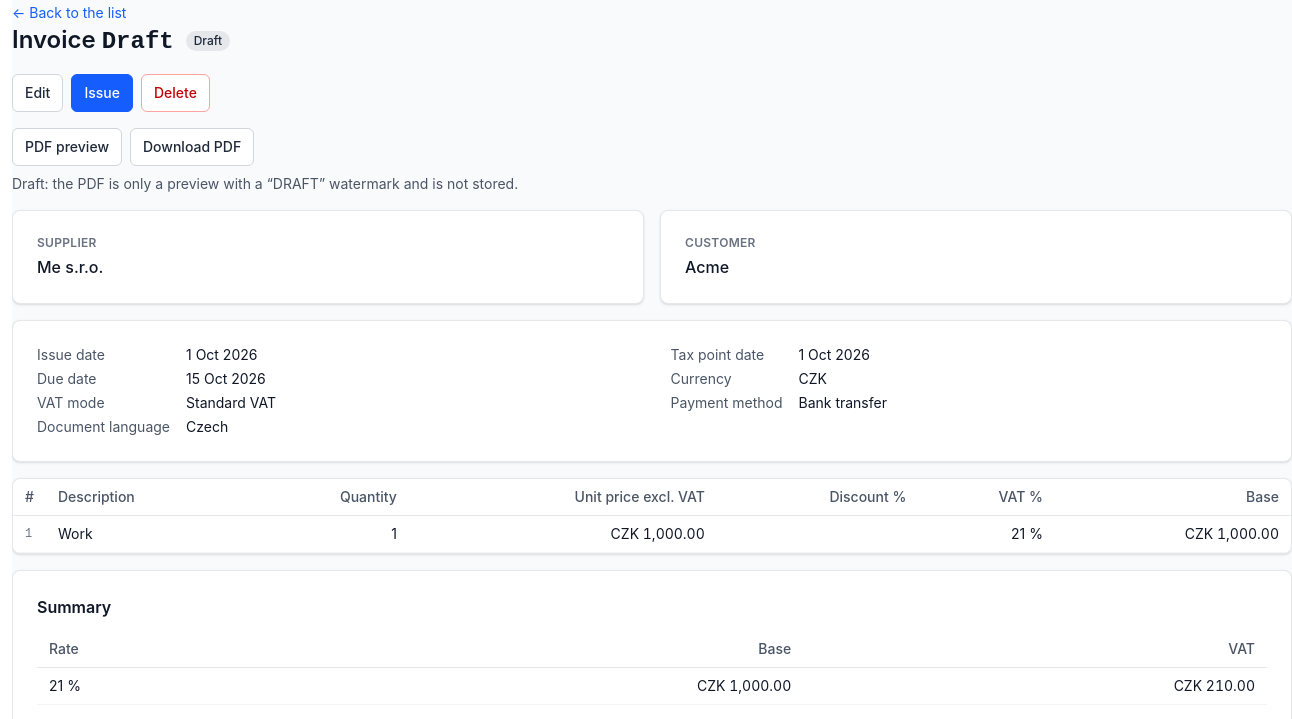
it: InvoiceDetailView › translates a 409 document_locked
The image size is (1292, 719).
Step 1. Click the button with test id "issue" → (102, 93), box [71,74,133,112]
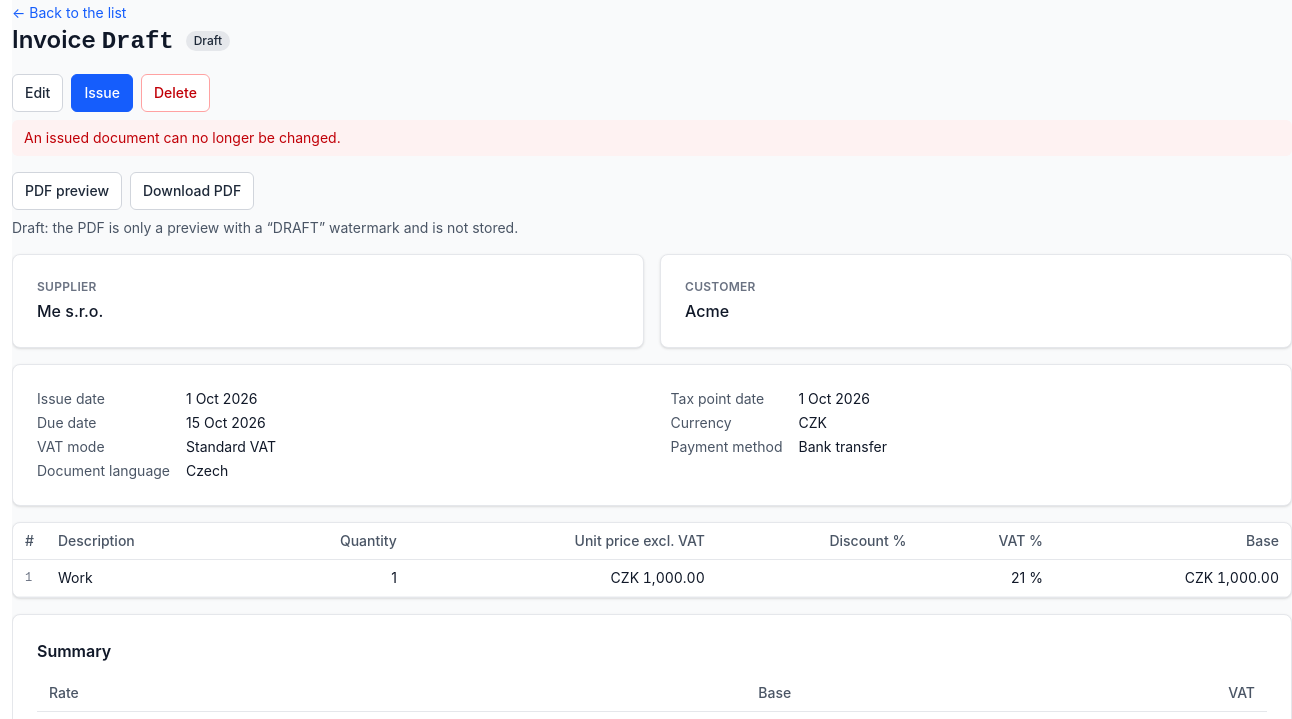
Expected: the message with test id "action-error" reads "An issued document can no longer be changed.", [24,129,341,146]
